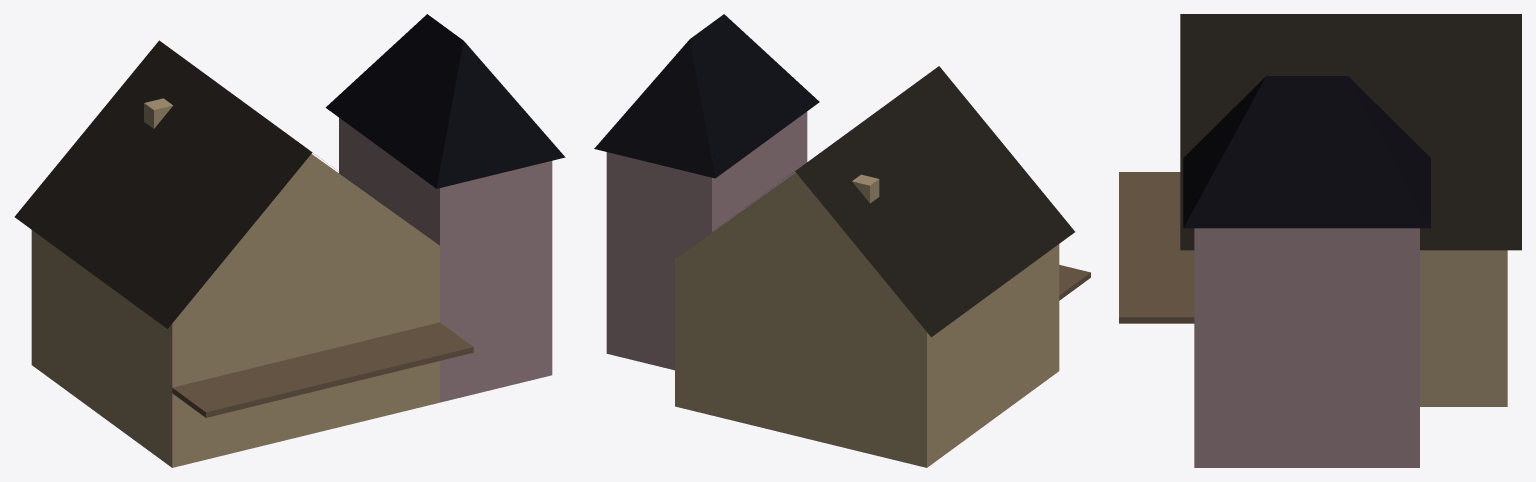
File: ns-victorian.towns-v1.lod2.glb
3 views of the same model, side by side, from view 1: azimuth 30°, elevation 25°; view 2: azimuth 150°, elevation 25°; view 3: azimuth 270°, elevation 25° (orthographic). The views are drawn at different scales.
Parts seen in each view (by area): view 1: ns-victorian; view 2: ns-victorian; view 3: ns-victorian.
Part boxes in pixels (x1=…): ns-victorian: x1=14, y1=14, x2=565, y2=467; ns-victorian: x1=594, y1=14, x2=1090, y2=467; ns-victorian: x1=1119, y1=14, x2=1521, y2=467.
Bounding box in the file's own units: 16.4 × 12.73 × 12.85.
